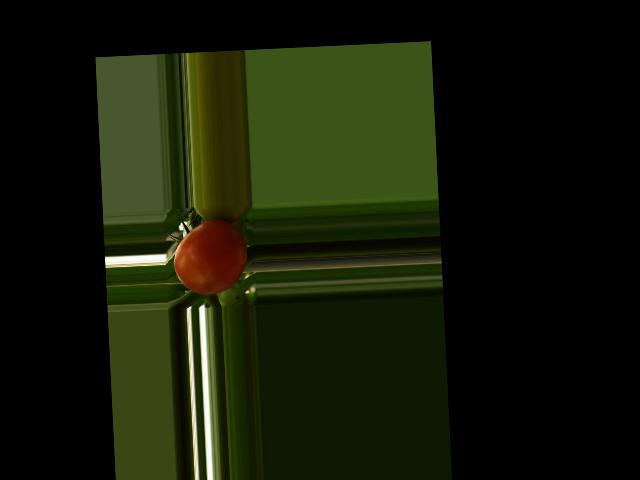tomato: (171, 217, 249, 295)
